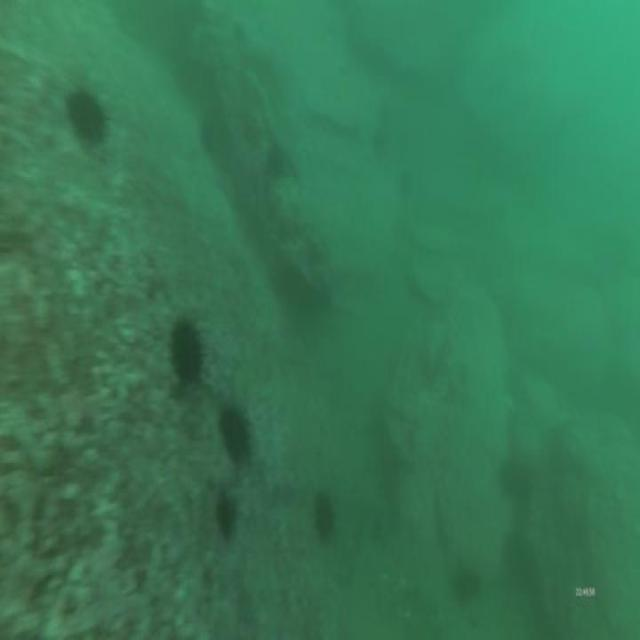echinus: (167, 310, 207, 395), (64, 82, 108, 152), (217, 400, 253, 468), (496, 458, 532, 511), (310, 486, 340, 546), (213, 488, 241, 548), (452, 560, 482, 612), (196, 108, 226, 154), (260, 142, 288, 184), (241, 114, 265, 150)
